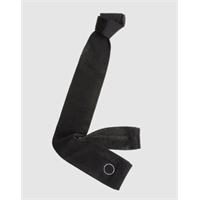tie: (52, 13, 140, 190)
